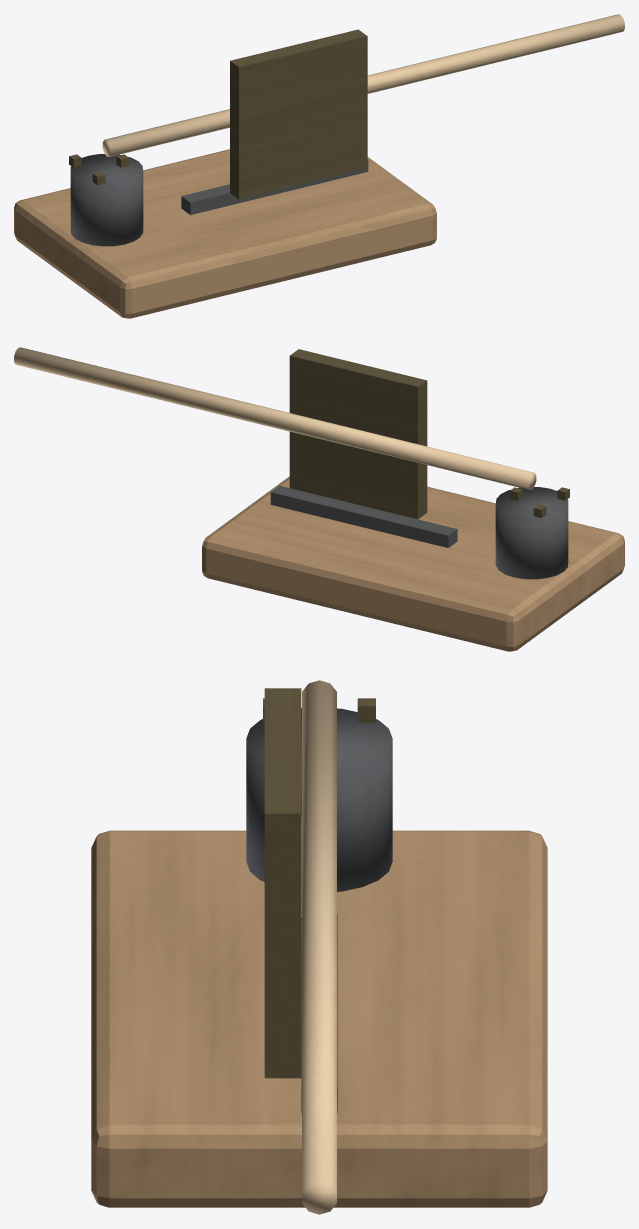
Rendered from FL_FletchingJig.fbx.
3 renders of one model, top to bottom at view 1: azimuth 30°, elevation 25°; view 2: azimuth 150°, elevation 25°; view 3: azimuth 270°, elevation 25°, orthographic. The views are drawn at different scales.
Parts seen in each view (by area): view 1: FL_FletchingJig; view 2: FL_FletchingJig; view 3: FL_FletchingJig.
Boxes of the visible parts, x1,y1,x2,y2 form: FL_FletchingJig: (14, 14, 624, 318); FL_FletchingJig: (14, 347, 624, 651); FL_FletchingJig: (91, 680, 547, 1214).
Size of the model in its own units: 0.0233 by 0.0075 by 0.00833.
